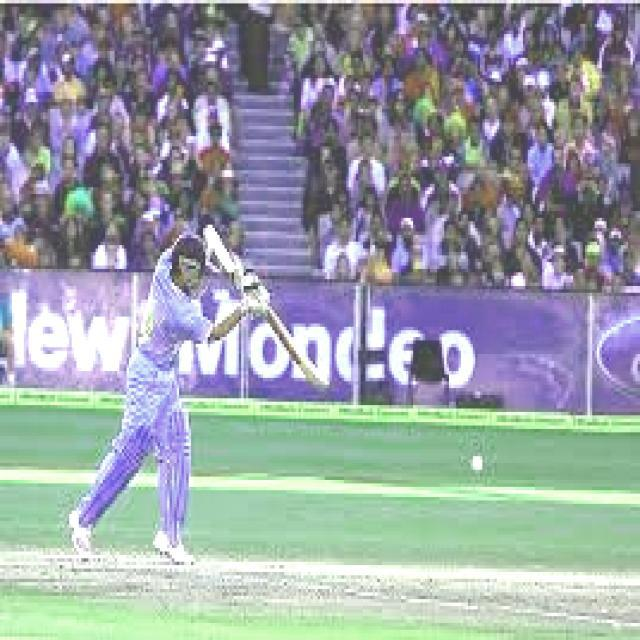bat: (249, 289, 362, 405)
toe: (308, 367, 341, 394)
